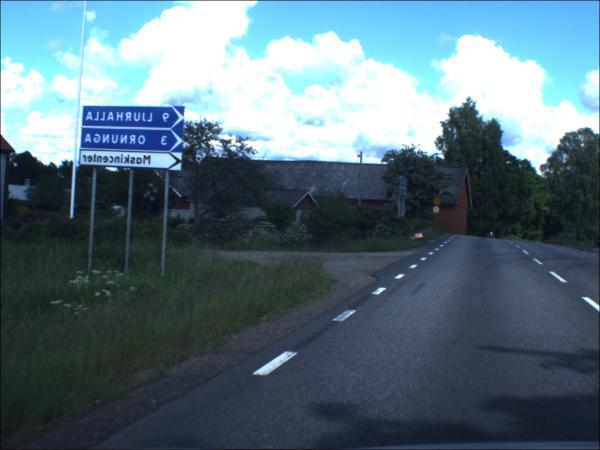50_SIGN: (433, 199, 441, 207)
PRIORITY_ROAD: (433, 207, 440, 215)
